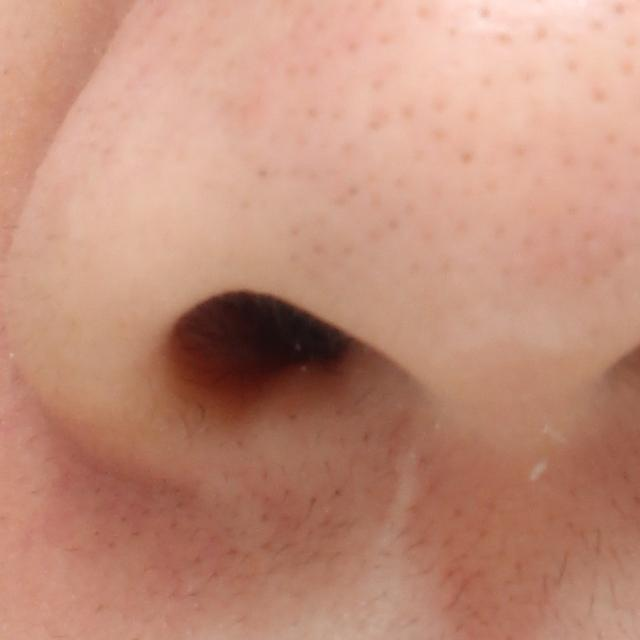other: (368, 442, 429, 570)
